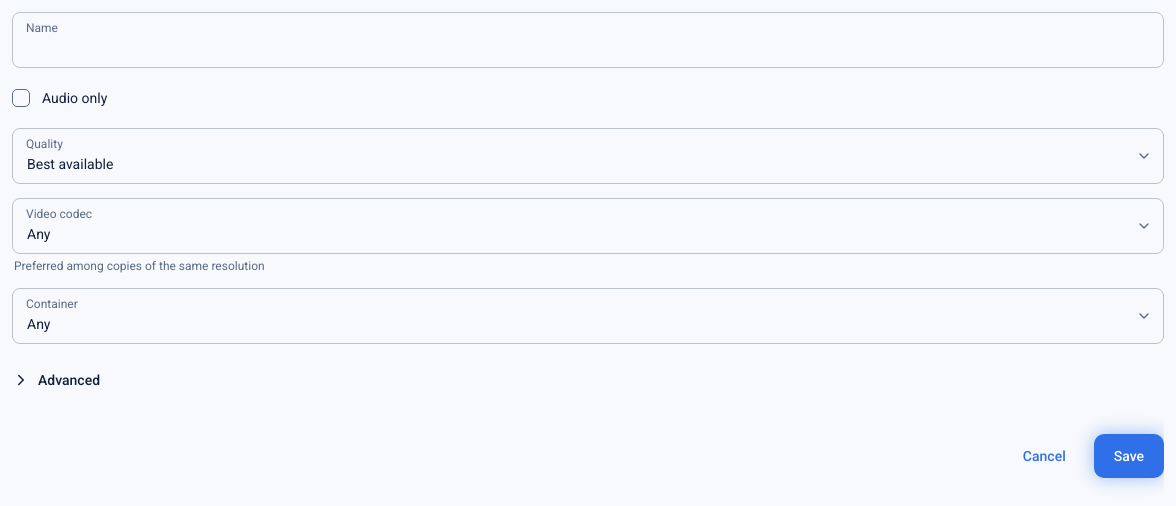
Test case: ProfileForm › asks only for the audio format of an audio-only profile
Later steps or results of the test are not shown.
Type "Pods" into the field labelled "Name".
click(588, 40); type("Pods")  # box [12,12,1164,68]
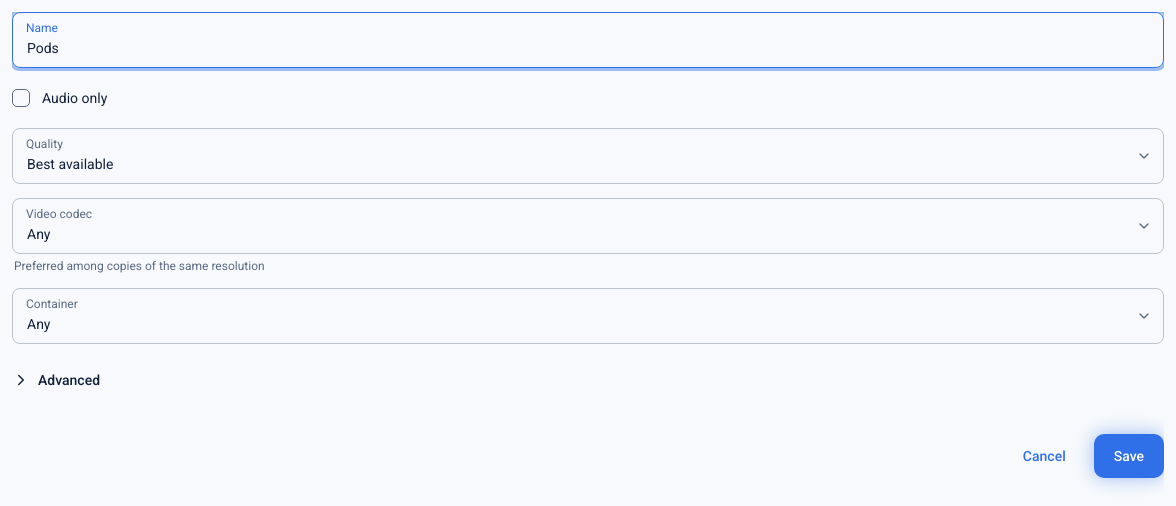
Select "AV1" in the dropdown labelled "Video codec" at (588, 226), box [12,198,1164,254]
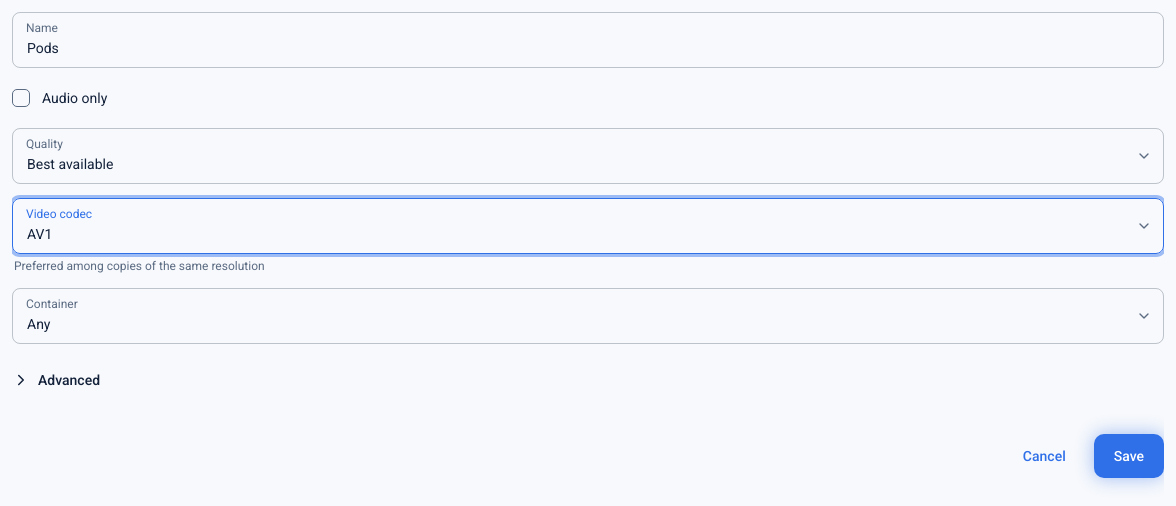
Click the checkbox labelled "Audio only".
click(21, 98)  # box [12,89,30,107]
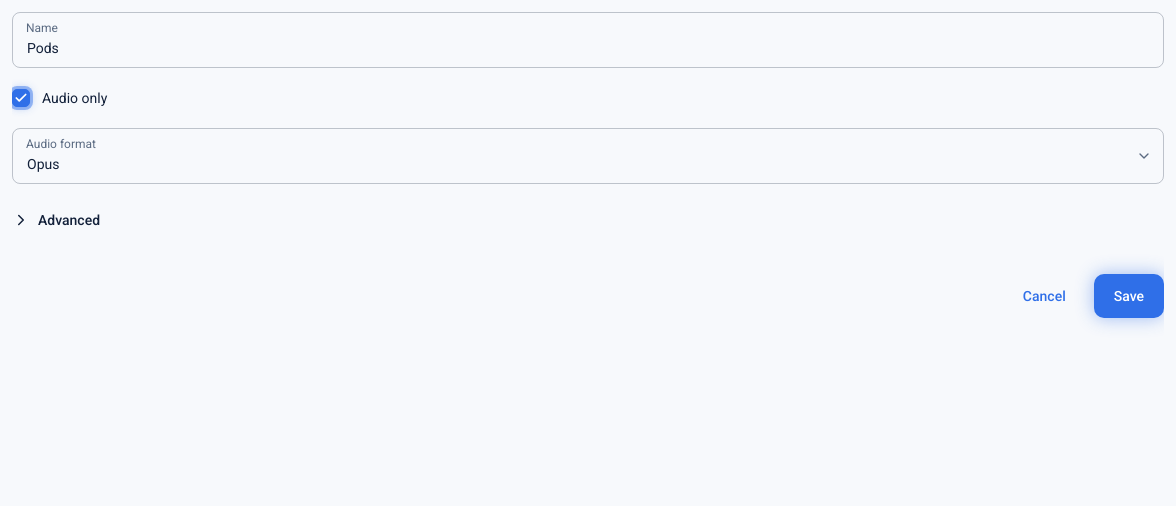
Result: the label "Quality" is gone
Result: the label "Video codec" is gone
Result: the label "Container" is gone
